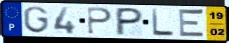4: (52, 6, 79, 36)
E: (178, 7, 207, 40)
G: (22, 5, 50, 35)
L: (151, 8, 176, 38)
P: (114, 7, 145, 37), (86, 7, 114, 36)
